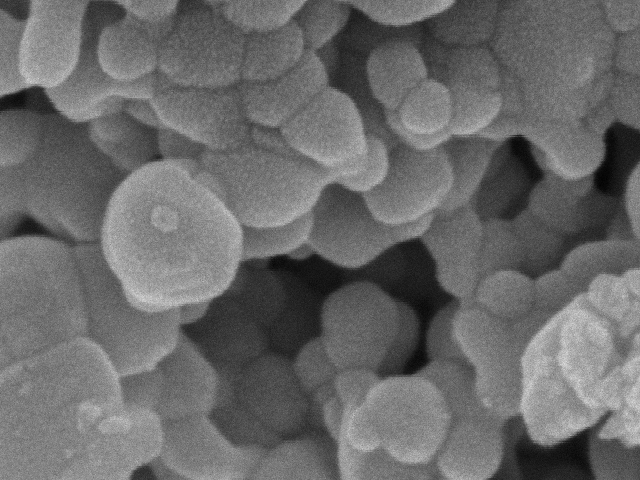nano: (396, 76, 459, 136), (141, 197, 187, 237)
